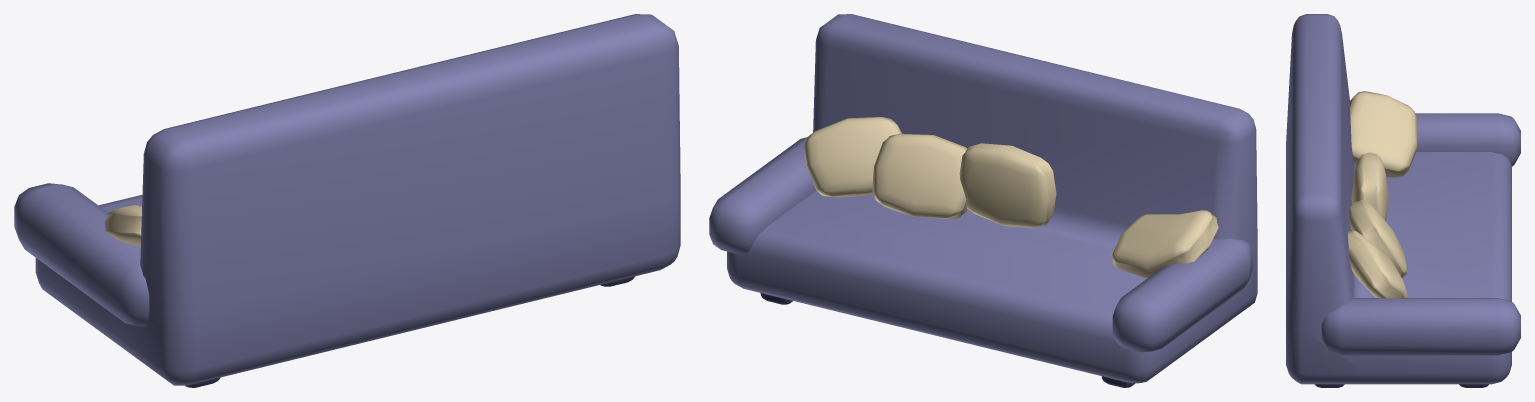
Rendered from Couch.fbx.
3 renders of one model, left to right at view 1: azimuth 30°, elevation 25°; view 2: azimuth 150°, elevation 25°; view 3: azimuth 270°, elevation 25°, orthographic. The views are drawn at different scales.
Visible parts, largest first — view 1: couch, pillow3; view 2: couch, pillow2, pillowOriginal, pillow1, pillow3; view 3: couch, pillow3, pillow1, pillow2, pillowOriginal, feet.
Part boxes in pixels (x1=…): couch: x1=14, y1=14, x2=680, y2=385; pillow3: x1=104, y1=205, x2=141, y2=245; couch: x1=709, y1=14, x2=1257, y2=383; pillow2: x1=872, y1=133, x2=967, y2=219; pillowOriginal: x1=959, y1=143, x2=1056, y2=228; pillow1: x1=804, y1=117, x2=901, y2=197; pillow3: x1=1111, y1=210, x2=1218, y2=278; couch: x1=1286, y1=14, x2=1520, y2=384; pillow3: x1=1350, y1=91, x2=1417, y2=177; pillow1: x1=1348, y1=230, x2=1408, y2=298; pillow2: x1=1349, y1=200, x2=1407, y2=278; pillowOriginal: x1=1351, y1=152, x2=1388, y2=221; feet: x1=1315, y1=384, x2=1488, y2=387.
Size of the model in its own units: 213 by 95.75 by 102.
